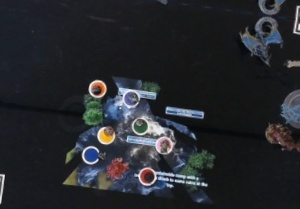blue: (76, 142, 105, 166)
green: (129, 116, 151, 138)
orange: (84, 77, 110, 100)
pink: (151, 134, 177, 156)
red: (132, 164, 161, 188)
violet: (119, 88, 142, 109)
yellow: (96, 123, 117, 146)
